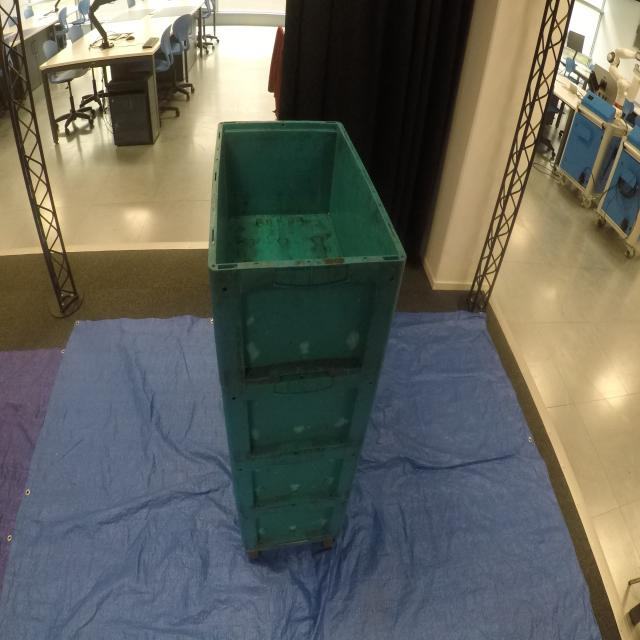BoxB4: (204, 114, 408, 373), (219, 372, 382, 449), (225, 440, 362, 496), (233, 504, 350, 542)
